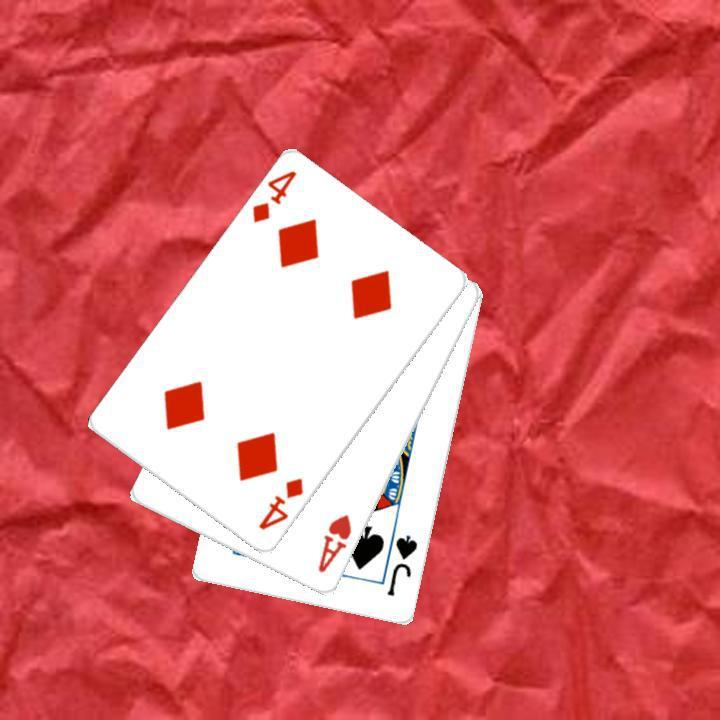4: (247, 166, 299, 226), (254, 474, 306, 533)
A: (314, 510, 354, 576)
J: (383, 531, 420, 599)
